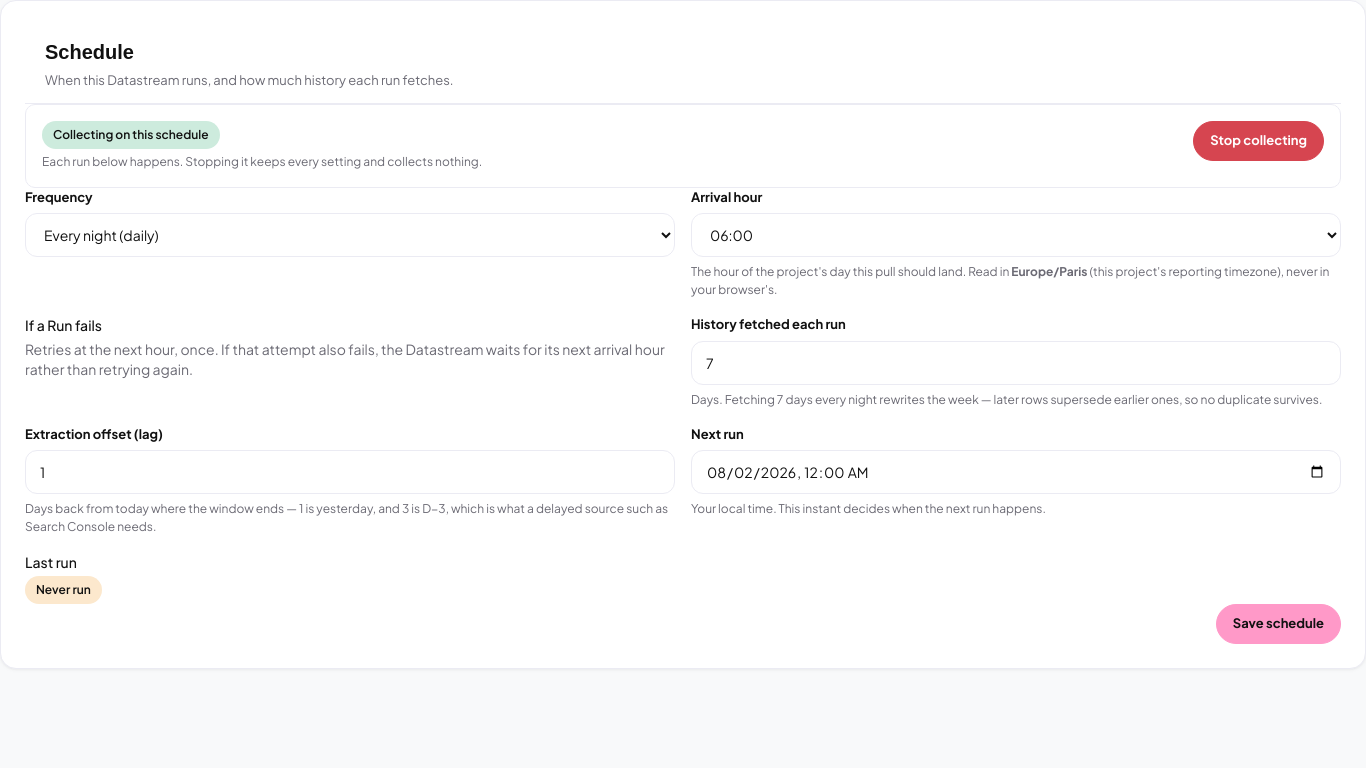
Test: SchedulePanel › names the days a stop loses, and how they come back
This screenshot has width=1366, height=768.
Step 1. Click the button with test id "schedule-arm" → point(1259, 140), box [1193,120,1324,160]
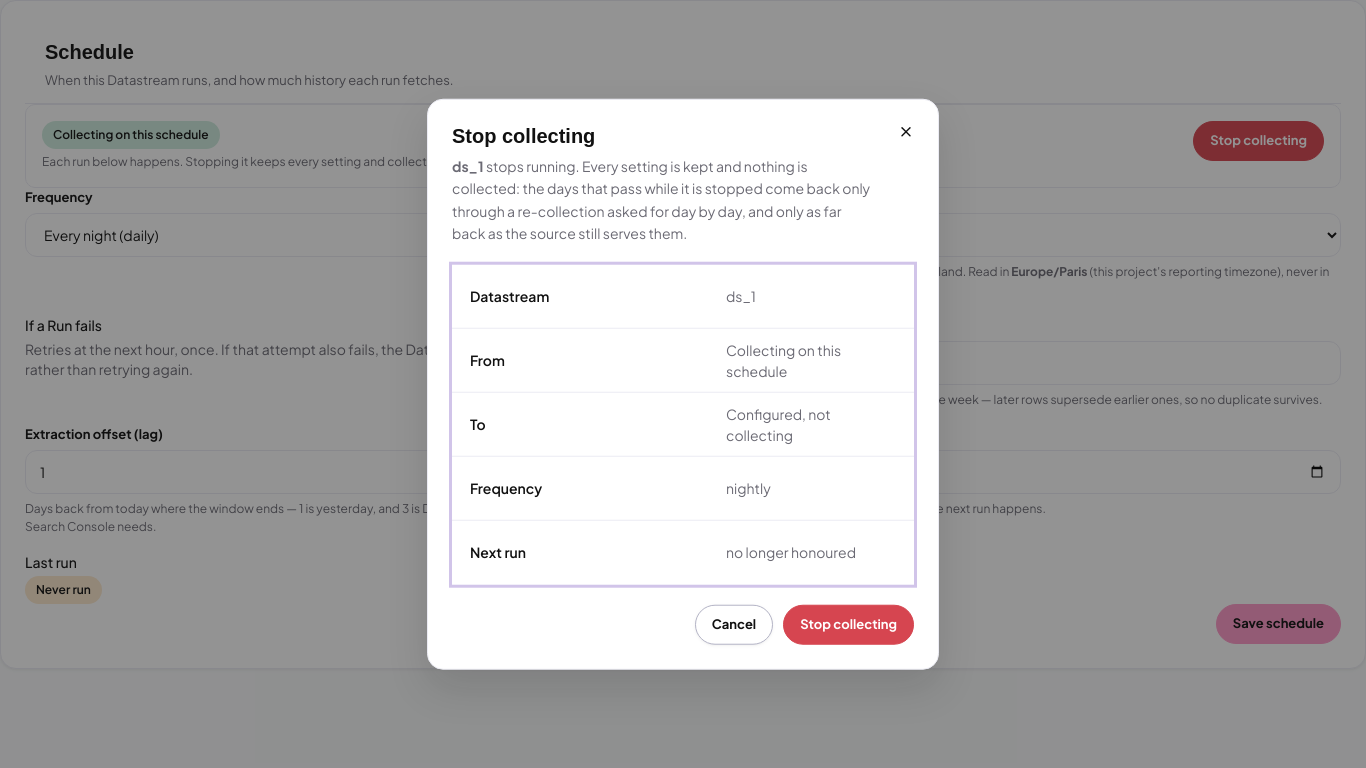
Result: the dialog with test id "schedule-arm-confirm" shows "re-collection" at [452,157,870,242]
Result: the dialog with test id "schedule-arm-confirm" shows "day by day" at [452,157,870,242]
